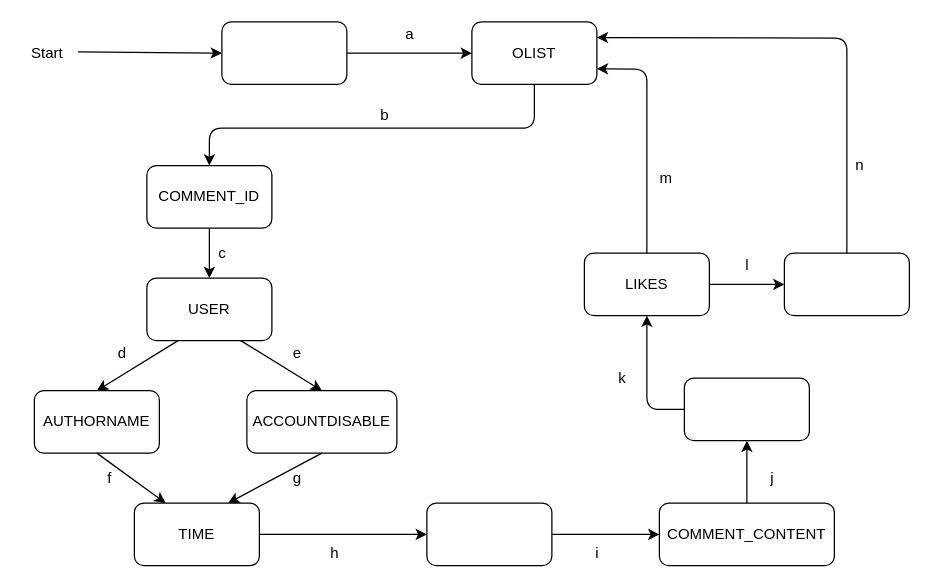
This 931x588 diagram has some shape labels left out. Here are the shapes that lost their labels. From the top down, the centre of each, then its label:
pixel 284 52: INITIAL
pixel 846 284: NUMBERLIKES
pixel 746 409: TEXT
pixel 489 534: DATE
